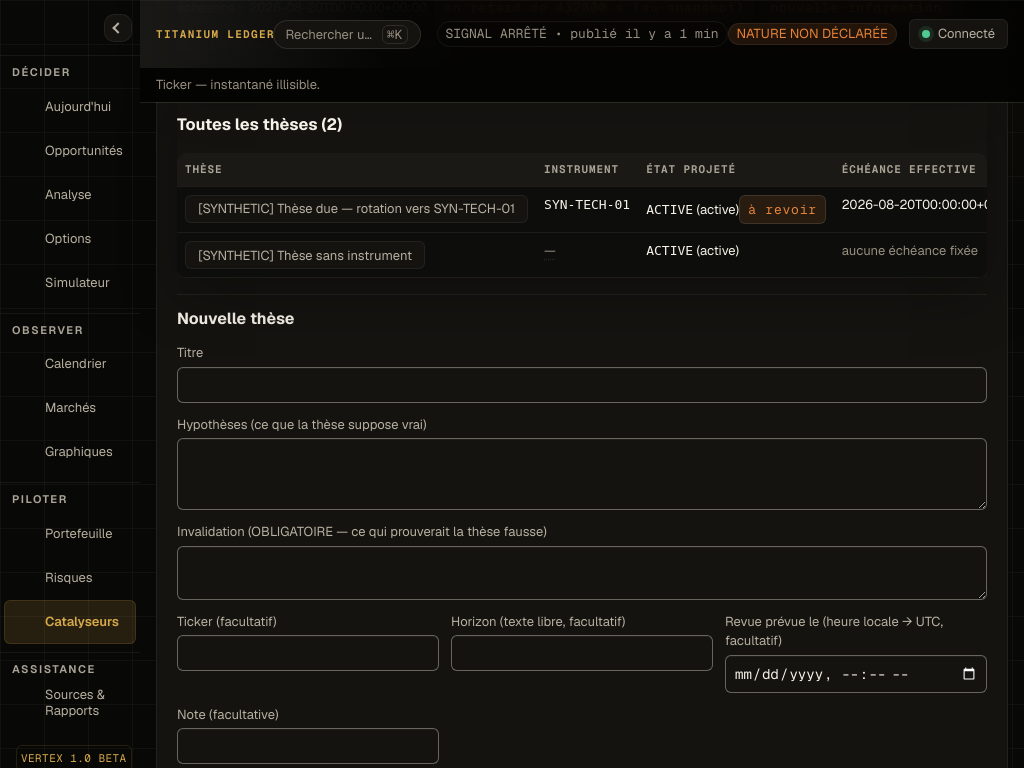
Formulaire de thèse › invalidation obligatoire : rien n’est envoyé sans elle
The image size is (1024, 768).
(page scrolled)
Type "Ma thèse" into the field labelled "Titre" at [582, 385], box [177, 367, 987, 403]
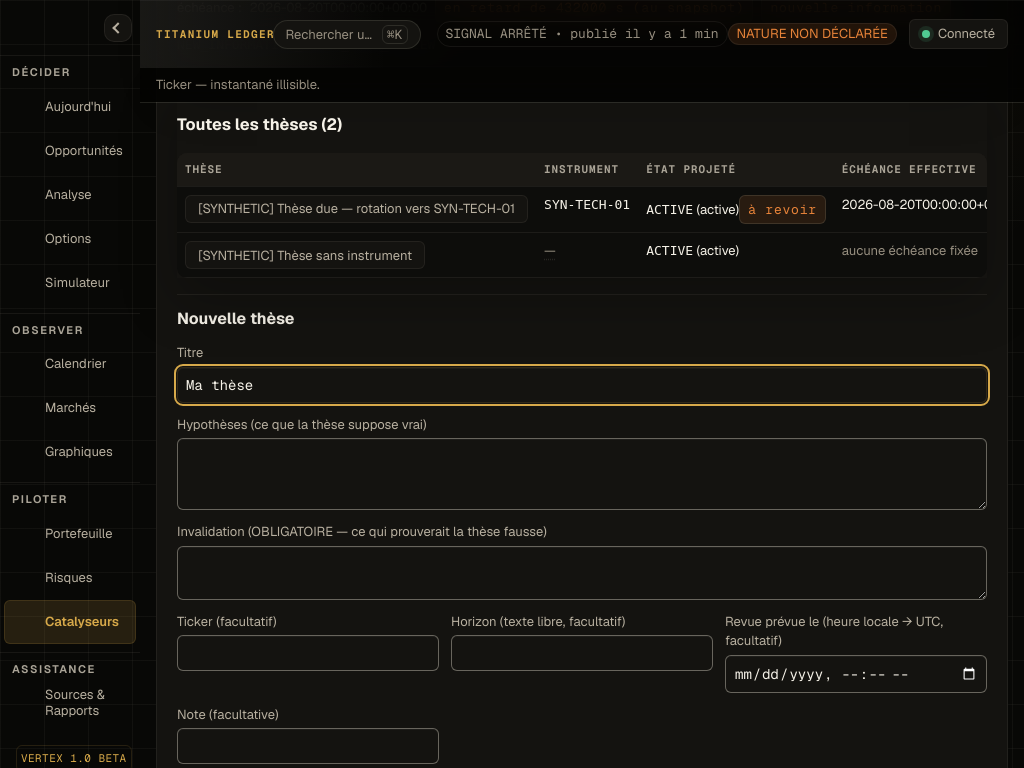
Type "Parce que." into the text box labelled "Hypothèses (ce que la thèse suppose vrai)" at [582, 474], box [177, 438, 987, 510]
(page scrolled)
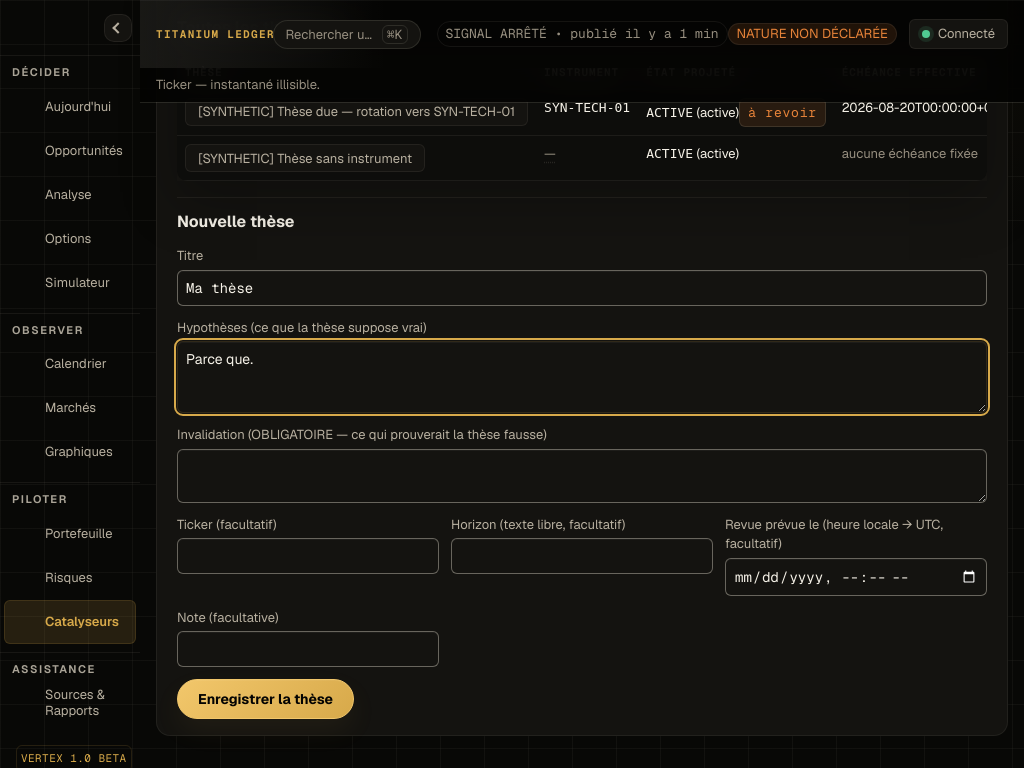
Click the button "Enregistrer la thèse" at [266, 700], box [177, 680, 354, 720]
(page scrolled)
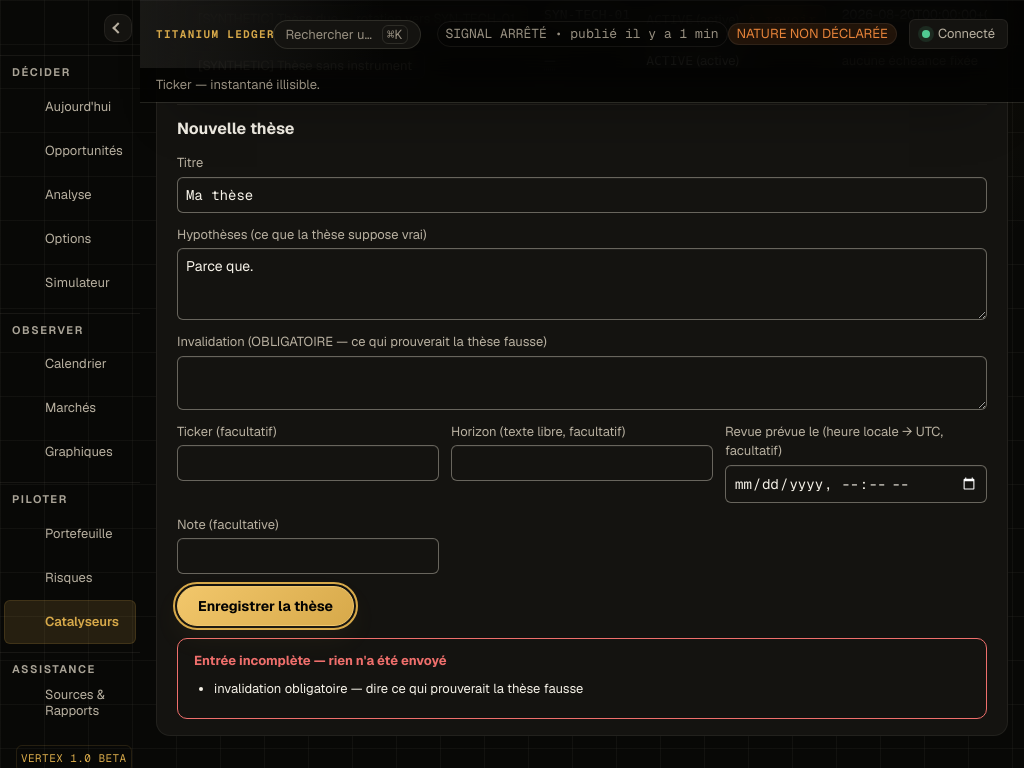
expect the list item "invalidation obligatoire — dire ce qui prouverait la thèse fausse" is shown: met, box [214, 680, 583, 697]
